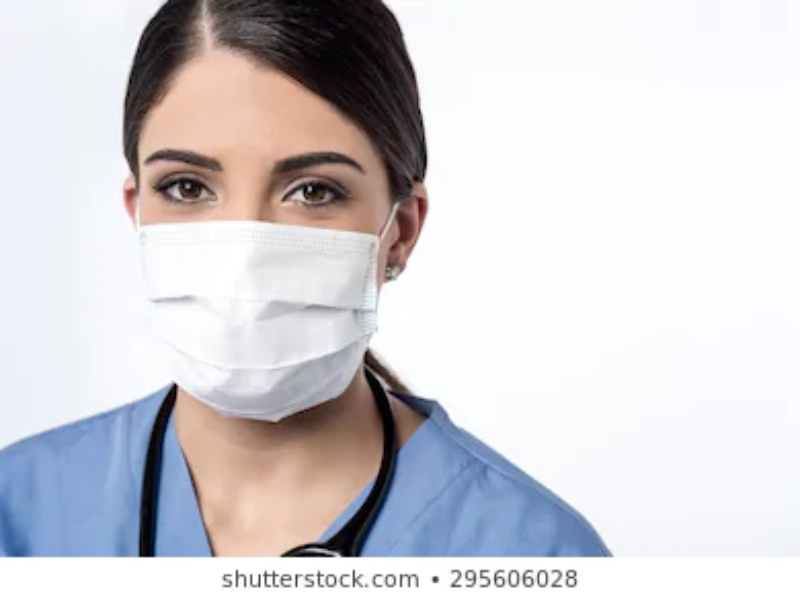ManaoArotava: (107, 33, 432, 449)
